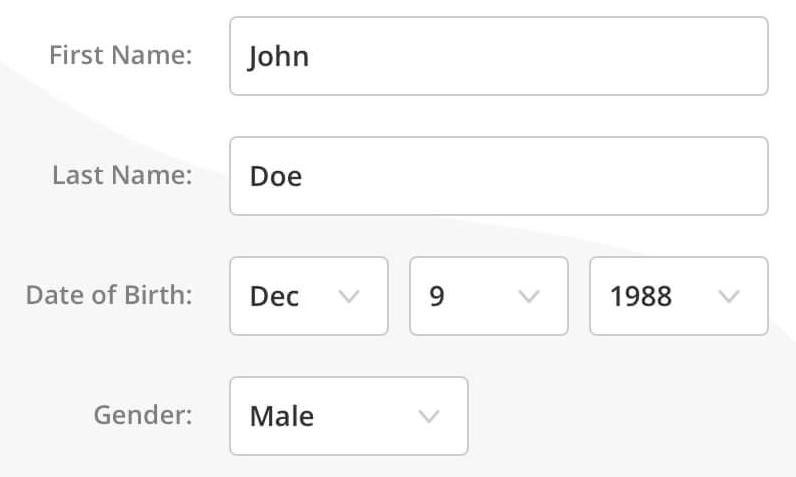field: (223, 15, 771, 98), (223, 134, 767, 217), (229, 376, 471, 457), (586, 255, 769, 338), (406, 255, 569, 338), (227, 257, 392, 338)
field_with_label: (50, 127, 771, 225), (46, 9, 775, 104), (91, 370, 480, 463), (21, 250, 400, 345)
